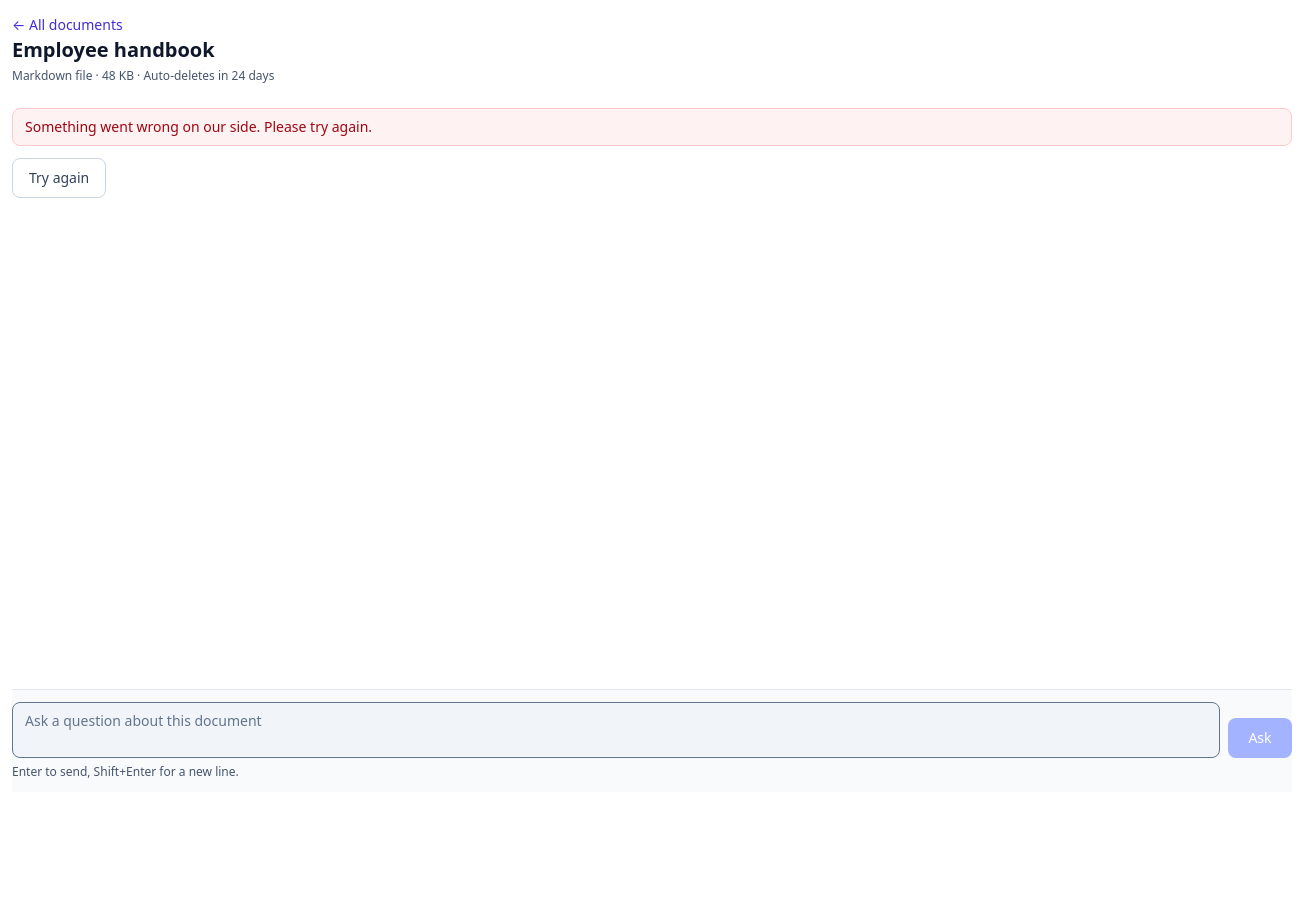
Test case: ChatView: when something goes wrong › lets the person retry when the conversation cannot be loaded
Expected: the message shows "Something went wrong on our side", [25,117,372,136]
Expected: the text box named "Your question" is disabled, [12,702,1220,758]
Click the button "Try again": x=59, y=178 [12,158,106,198]
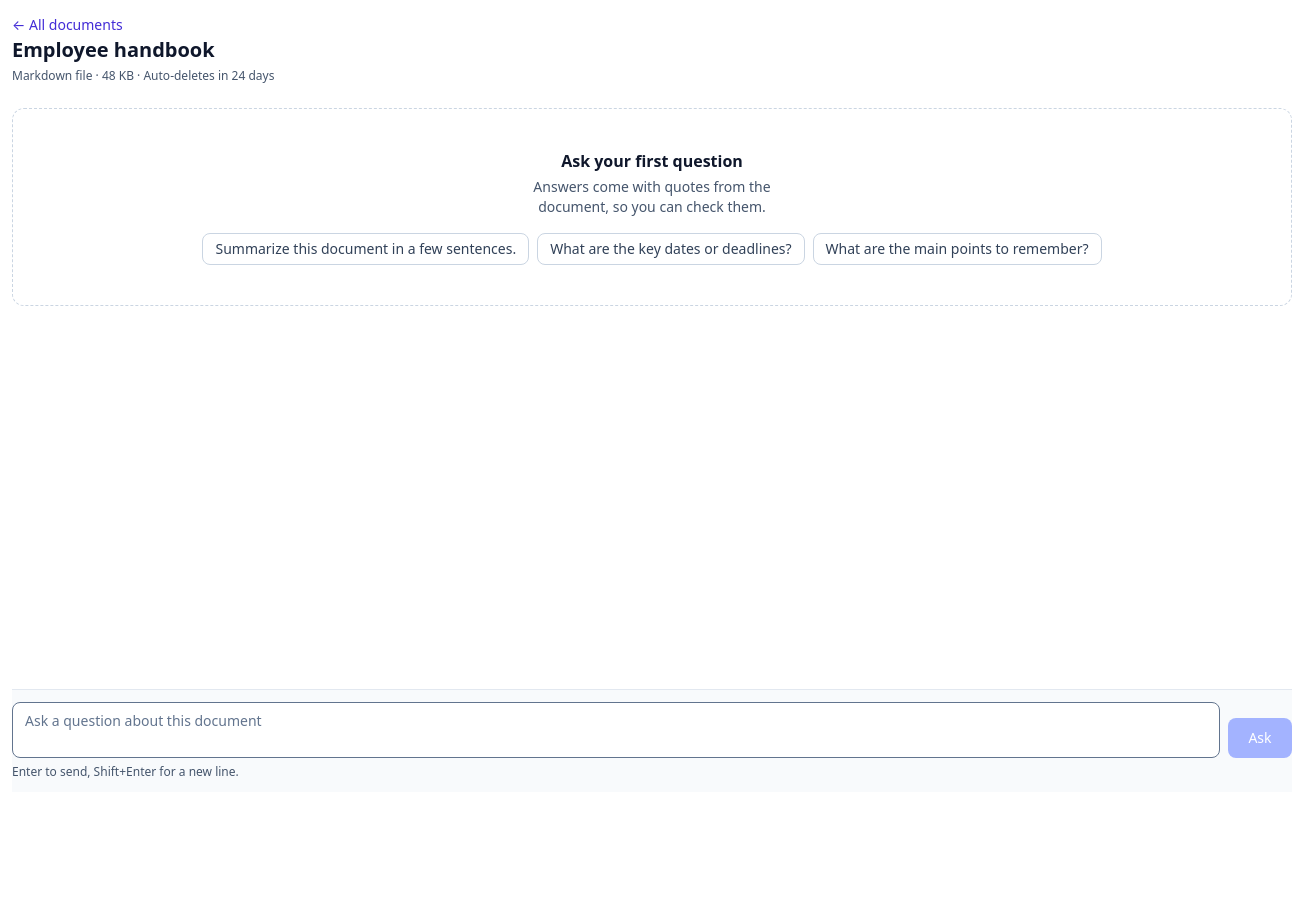
Expected: the text box named "Your question" is enabled, [12,702,1220,758]
Expected: the heading "Ask your first question" is shown, [561,150,743,172]
